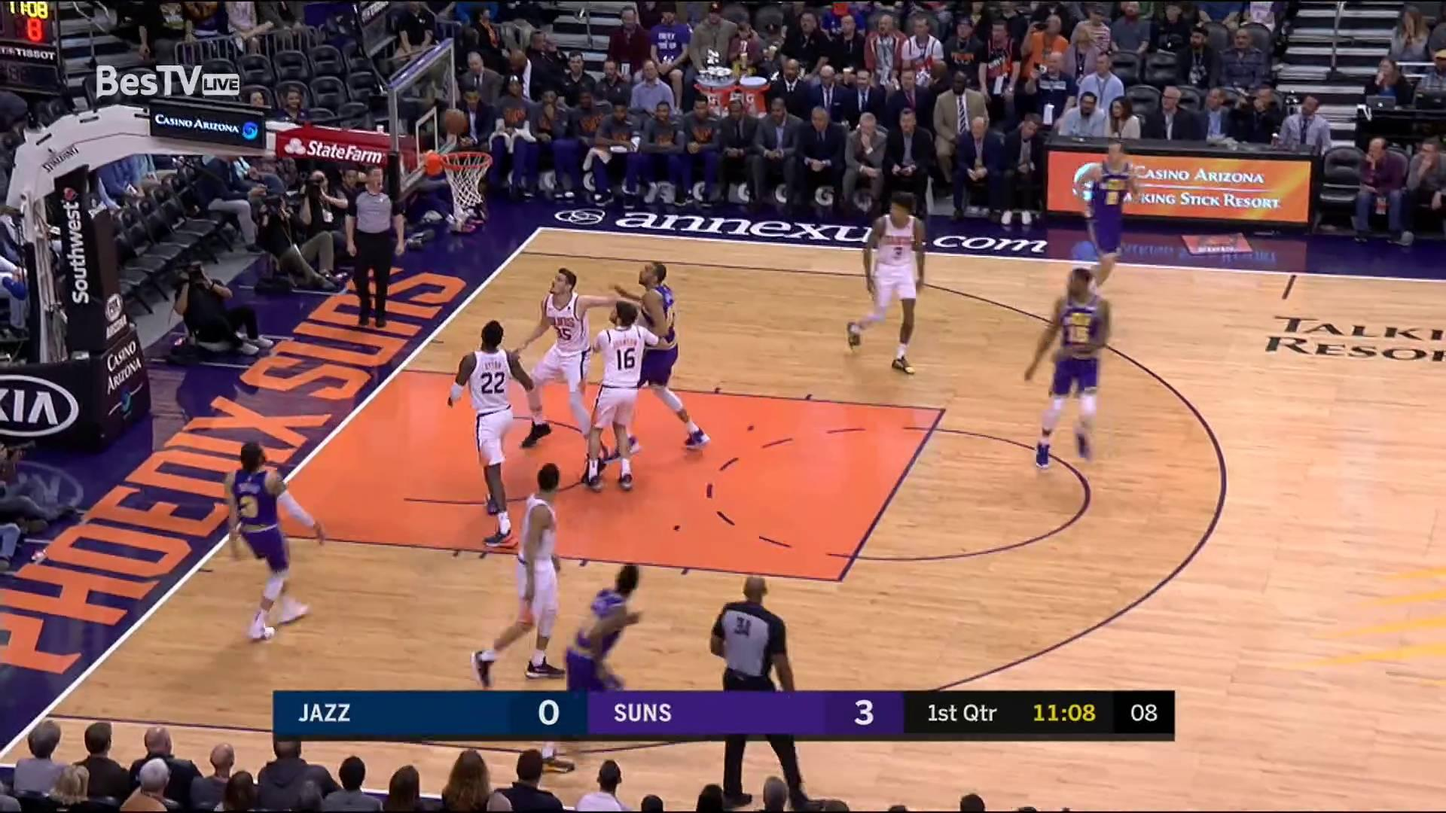basketball: (441, 106, 468, 137)
